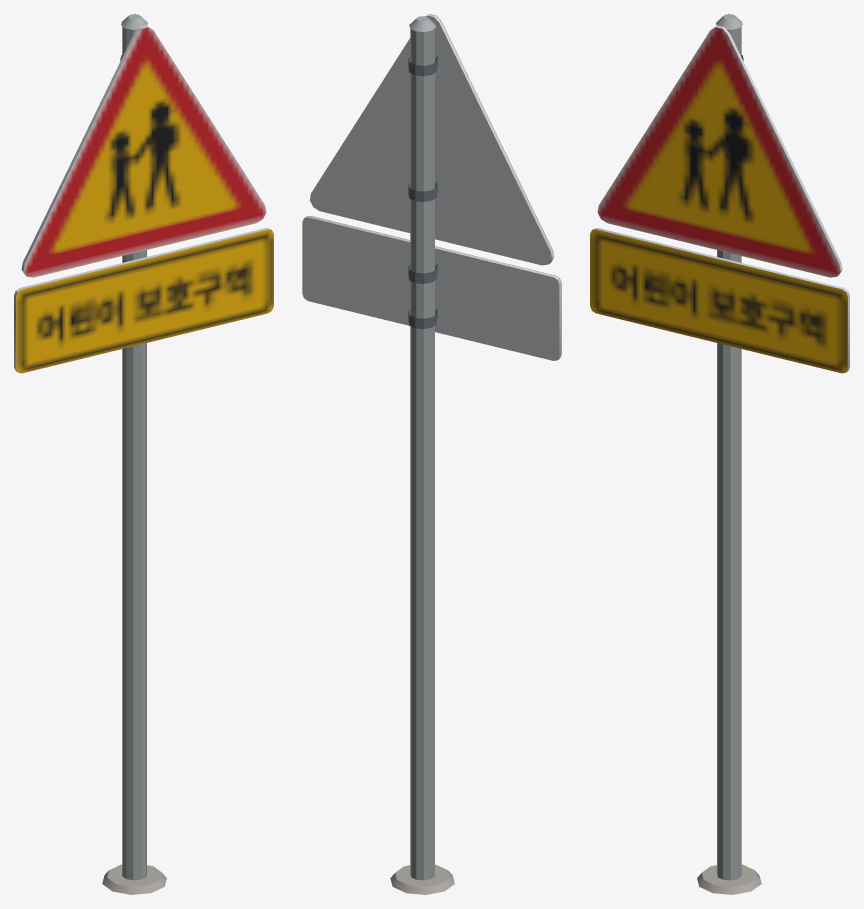
Rendered from SC_Str_Sign_SchoolZone.gltf.
3 views of the same model, side by side, from view 1: azimuth 30°, elevation 25°; view 2: azimuth 150°, elevation 25°; view 3: azimuth 330°, elevation 25° (orthographic).
Visible parts, largest first — view 1: SC_Str_Sign_SchoolZone; view 2: SC_Str_Sign_SchoolZone; view 3: SC_Str_Sign_SchoolZone.
Boxes of the visible parts, bbox=[...] form: SC_Str_Sign_SchoolZone: bbox=[14, 14, 273, 894]; SC_Str_Sign_SchoolZone: bbox=[302, 14, 561, 894]; SC_Str_Sign_SchoolZone: bbox=[590, 14, 849, 894].
Bounding box in the file's own units: 0.9 × 2.88 × 0.2.
Materials: 2 (2 with a texture image).
